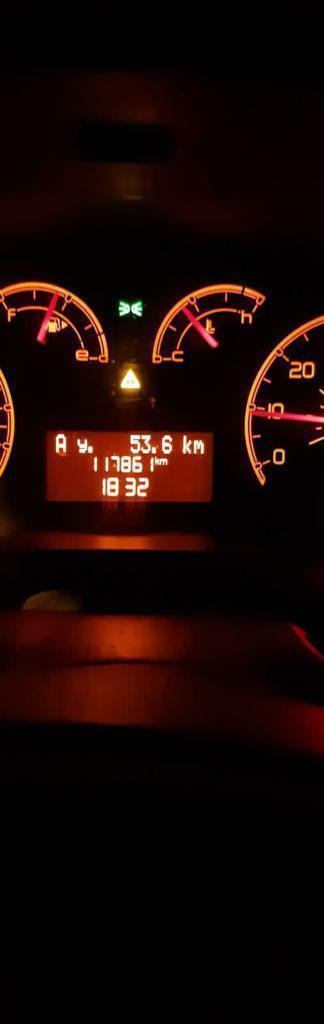,: (151, 446, 158, 455), (87, 445, 94, 453)
1: (92, 455, 99, 473), (101, 477, 106, 498), (149, 457, 154, 473), (104, 455, 108, 473)
2: (136, 476, 149, 497)
3: (124, 475, 136, 497), (141, 432, 151, 454)
5: (129, 433, 140, 454)
6: (161, 434, 172, 455), (131, 456, 142, 473)
7: (110, 454, 120, 472)
8: (106, 476, 119, 497), (120, 454, 131, 473)
X: (55, 432, 67, 454), (192, 437, 205, 455), (181, 433, 192, 454), (75, 437, 87, 454), (160, 457, 168, 465), (154, 455, 160, 465)
odometer: (45, 430, 215, 503)
